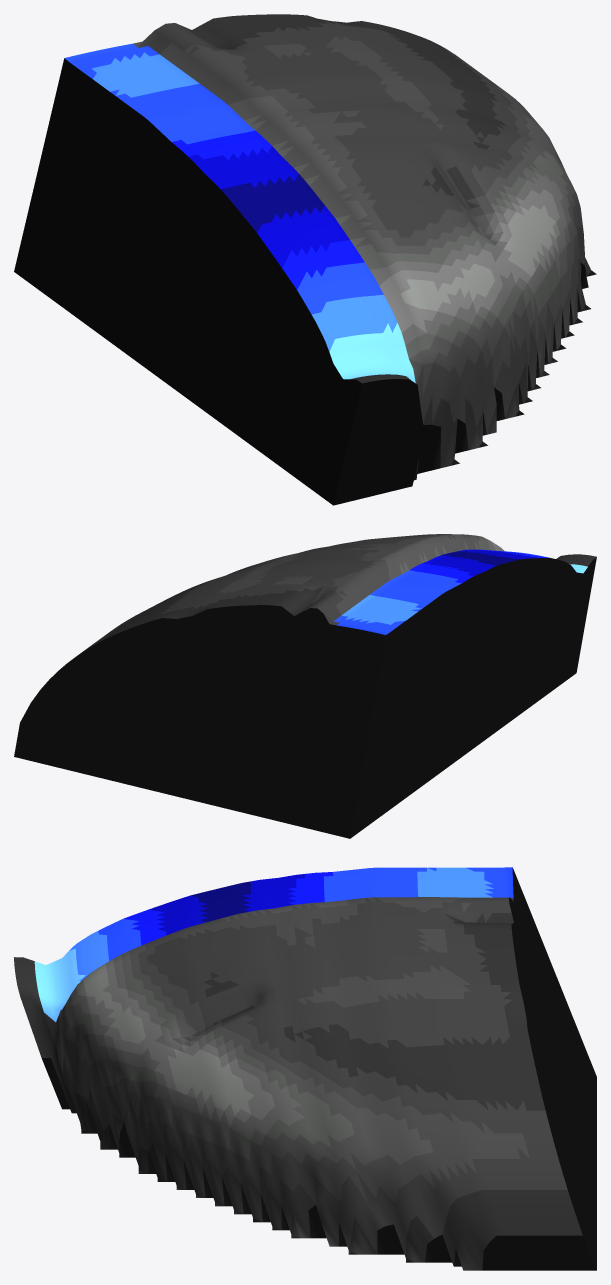
File: time_capsule_284.glb
3 views of the same model, one above another, from view 1: azimuth 30°, elevation 25°; view 2: azimuth 150°, elevation 25°; view 3: azimuth 270°, elevation 25° (orthographic). The views are drawn at different scales.
Visible parts, largest first — view 1: time_capsule_284; view 2: time_capsule_284; view 3: time_capsule_284.
Boxes of the visible parts, x1=… form: time_capsule_284: x1=14, y1=14, x2=596, y2=505; time_capsule_284: x1=14, y1=534, x2=596, y2=838; time_capsule_284: x1=14, y1=867, x2=596, y2=1270.
Size of the model in its own units: 24 by 12.72 by 30.52.
